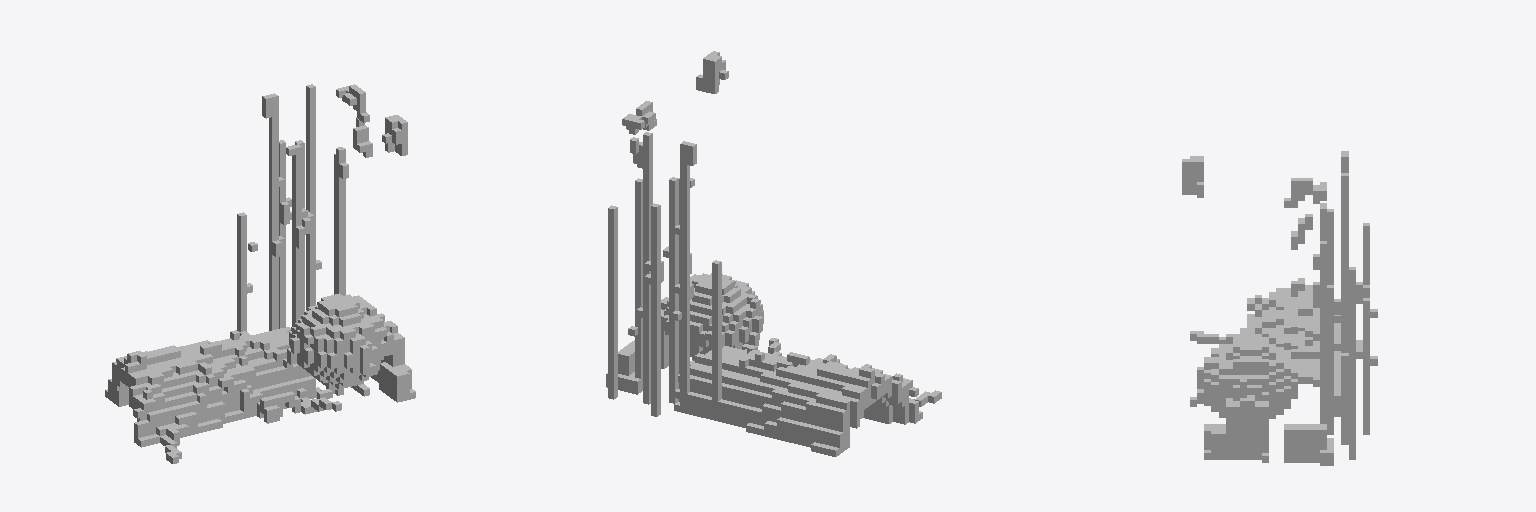
Rendered from tiles 0 morceau 5.obj.
3 renders of one model, left to right at view 1: azimuth 30°, elevation 25°; view 2: azimuth 150°, elevation 25°; view 3: azimuth 270°, elevation 25°, orthographic.
Parts seen in each view (by area): view 1: tiles 0 morceau 5; view 2: tiles 0 morceau 5; view 3: tiles 0 morceau 5.
Part boxes in pixels (x1,y1,x2,y2): tiles 0 morceau 5: (105, 84, 415, 463); tiles 0 morceau 5: (606, 51, 941, 456); tiles 0 morceau 5: (1182, 151, 1377, 465).
Size of the model in its own units: 43 by 44 by 27.